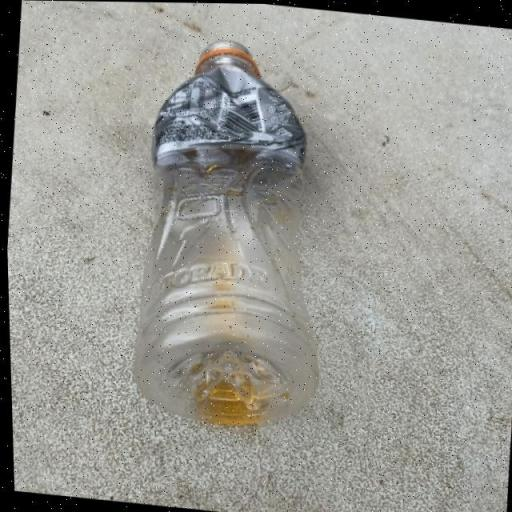plastic: (117, 30, 348, 432)
